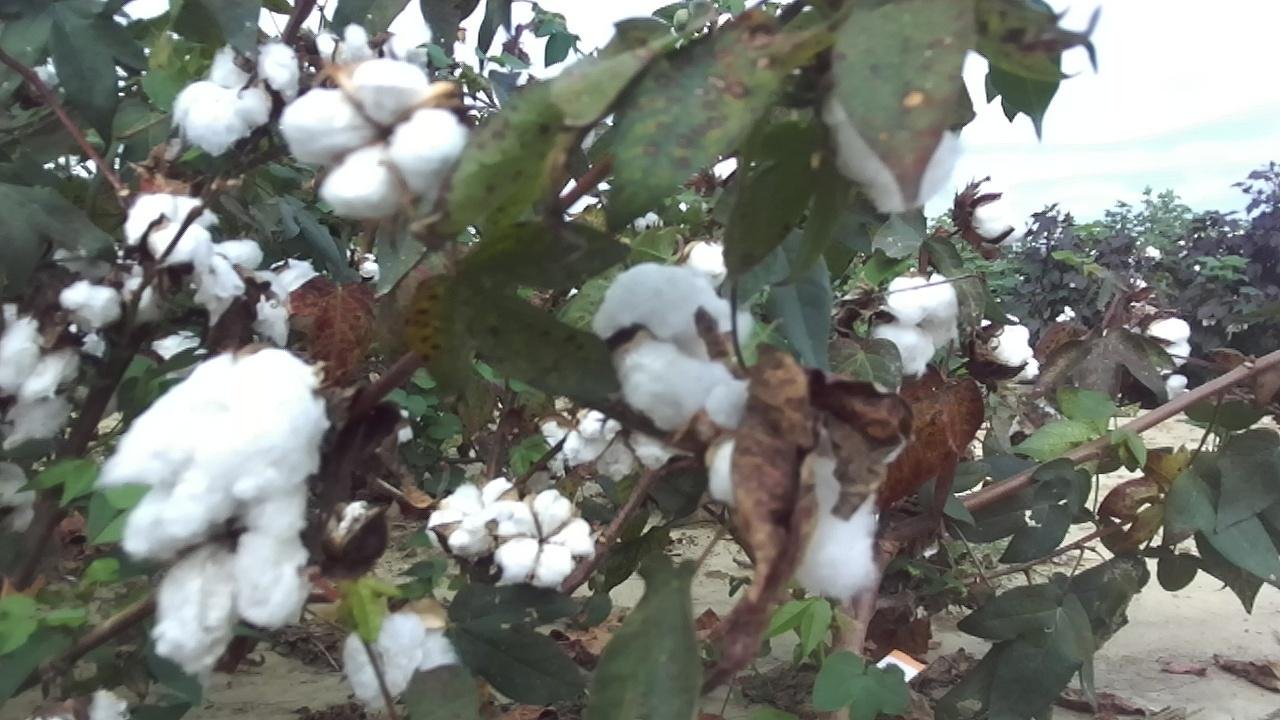cotton_ready: (93, 348, 326, 683), (703, 373, 896, 606), (283, 57, 468, 221), (588, 256, 753, 428), (827, 53, 961, 218), (0, 280, 125, 451), (124, 191, 265, 303), (176, 41, 301, 160), (346, 609, 461, 708), (531, 410, 683, 482), (870, 272, 963, 383), (496, 486, 595, 585), (428, 473, 520, 563), (978, 313, 1043, 383)
